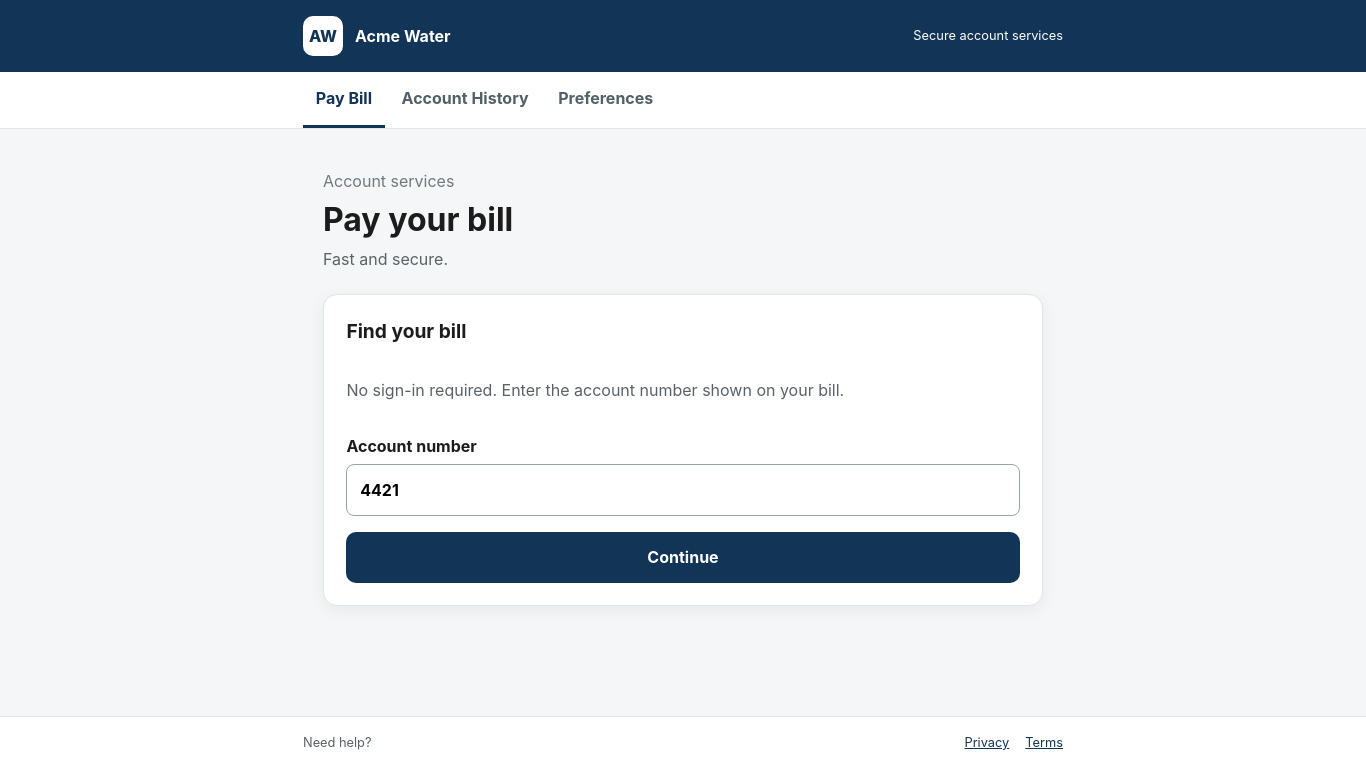
Test: multi-invoice cart + batch checkout › clears the quote error when the failing bill is deselected
This screenshot has width=1366, height=768.
Click the button with test id "lookup-submit": (683, 557) [346,532,1020,583]
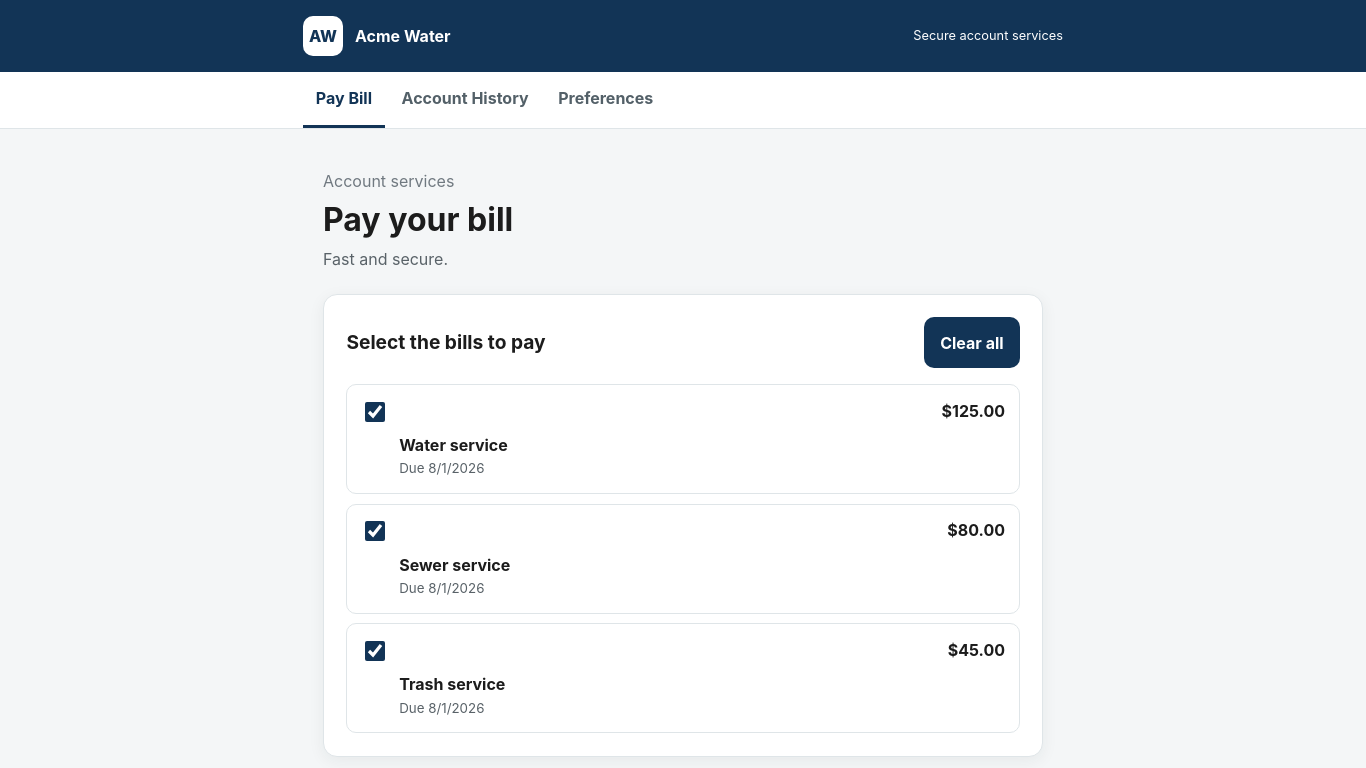
Expected: the element with test id "invoice-select" is shown, [323,294,1043,756]
// Removing the offending bill clears the error and unblocks checkout — no manual retry.
Click the checkbox labelled "Sewer Sewer service Due 8/1/2026 $80.00": (375, 531) [365,521,385,541]
(page scrolled)
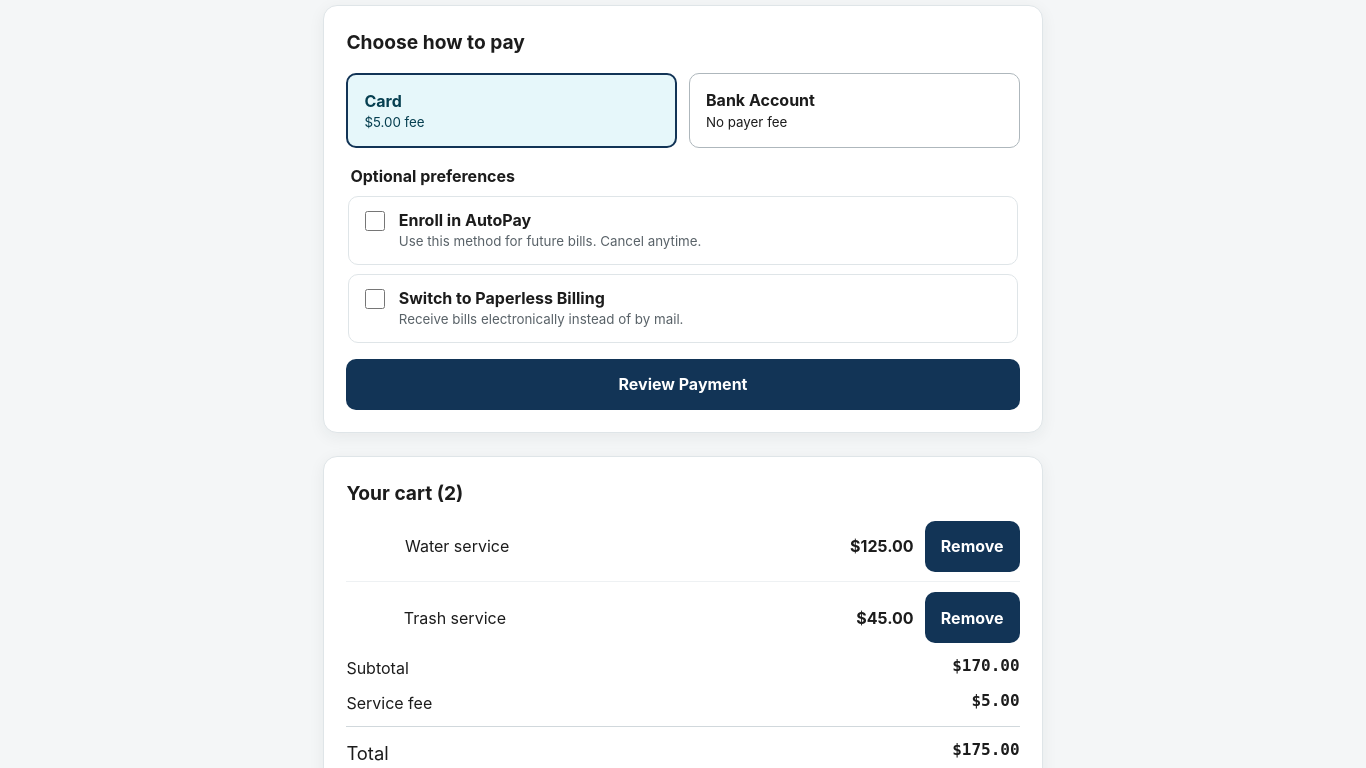
Expected: the button with test id "review-submit" is enabled, [346,359,1020,410]
